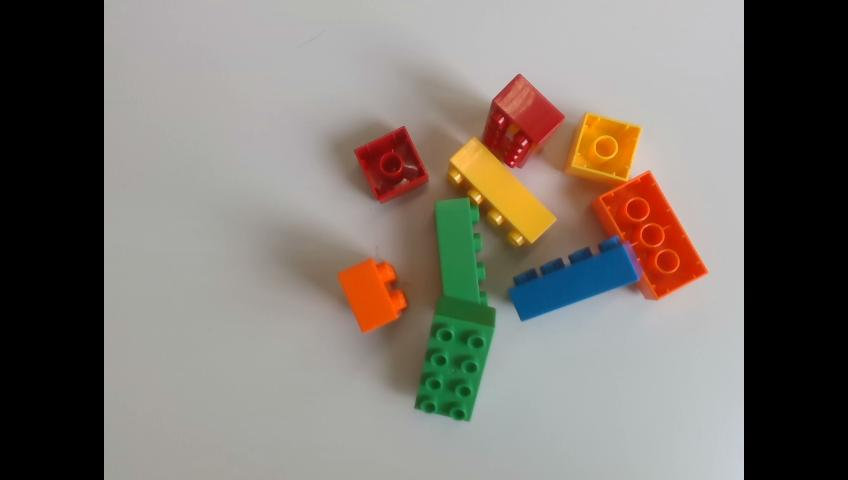2x2_orange: (335, 256, 410, 335)
2x2_red: (352, 125, 428, 206)
2x2_yellow: (563, 111, 645, 187)
4x2_blue: (508, 235, 643, 322)
4x2_green: (413, 296, 498, 425), (433, 195, 490, 306)
4x2_orange: (592, 170, 710, 303)
4x2_red: (478, 74, 568, 168)
4x2_yellow: (447, 136, 559, 251)
